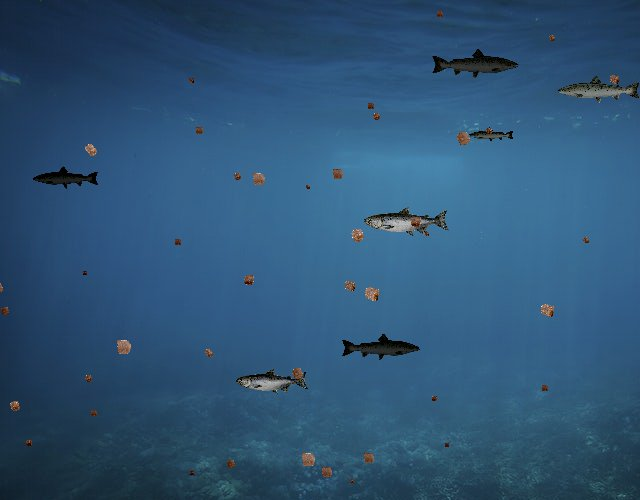Fish: (431, 47, 521, 80), (364, 206, 450, 237), (556, 74, 640, 105), (340, 333, 421, 362), (236, 368, 309, 394), (32, 165, 100, 190), (469, 127, 516, 144)
Pellet: (108, 331, 138, 362), (245, 166, 272, 193), (3, 395, 26, 417), (238, 269, 260, 291), (363, 99, 378, 113), (428, 392, 441, 405), (185, 75, 198, 88)
